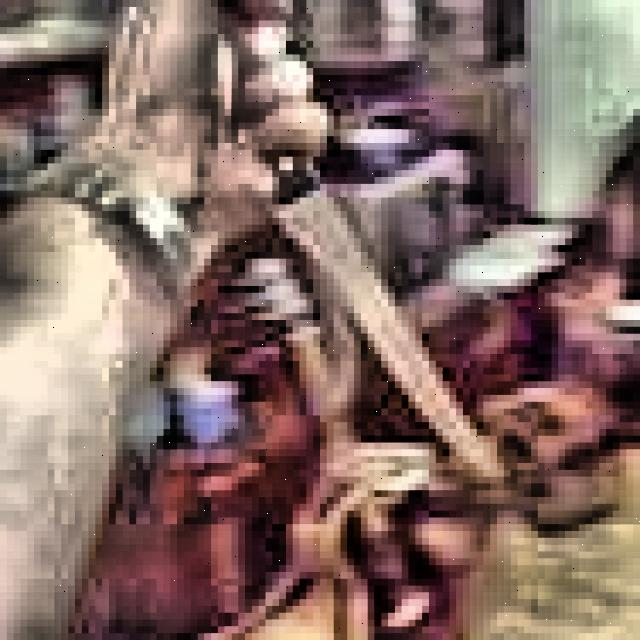knife: (265, 148, 496, 480)
